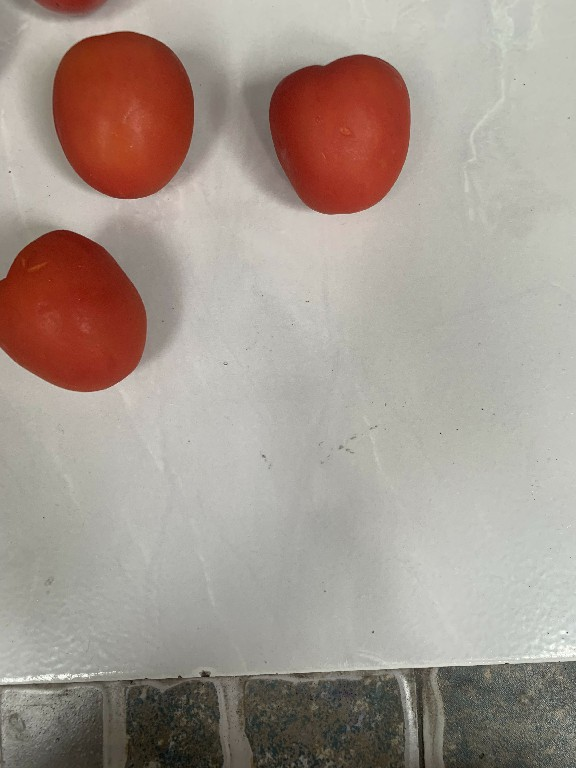OK: (258, 36, 441, 222), (38, 22, 205, 204), (0, 205, 149, 394)
